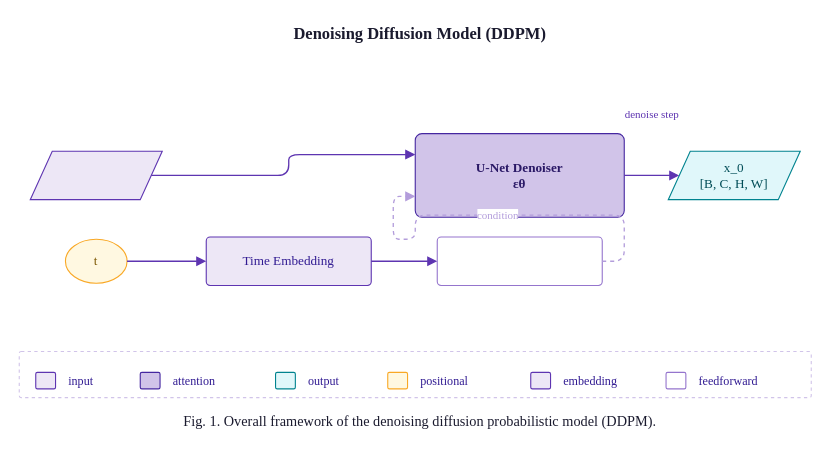
This 839x449 diagram has some shape labels left out. Here are the shapes that lost their labels. From the top down, the box of each, then its label:
(29, 150, 162, 200): x_T [B, C, H, W]
(436, 236, 602, 285): MLP
